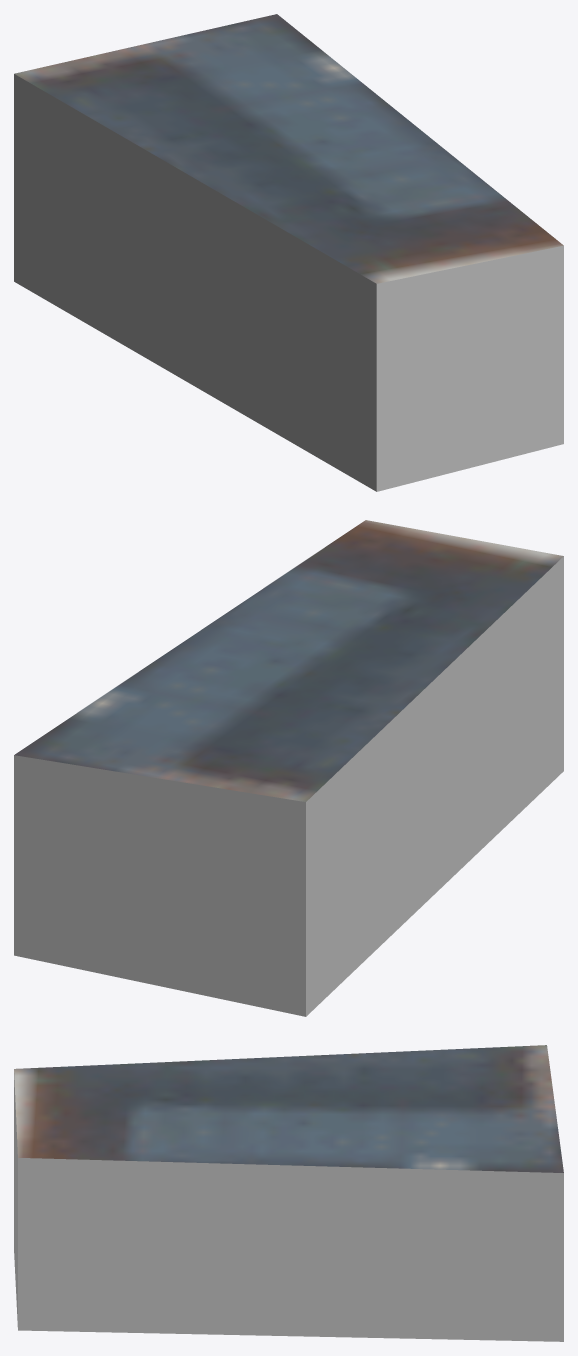
Rendered from DEBW_0010007THVr.gltf.
3 views of the same model, one above another, from view 1: azimuth 30°, elevation 25°; view 2: azimuth 150°, elevation 25°; view 3: azimuth 270°, elevation 25° (orthographic). The views are drawn at different scales.
Parts seen in each view (by area): view 1: Z_UP; view 2: Z_UP; view 3: Z_UP.
Part boxes in pixels (bbox=[...]): Z_UP: bbox=[14, 14, 563, 491]; Z_UP: bbox=[14, 520, 563, 1016]; Z_UP: bbox=[14, 1045, 563, 1341].
Bounding box in the file's own units: 5.5 × 4.01 × 11.03.
Materials: 2 (1 with a texture image).
